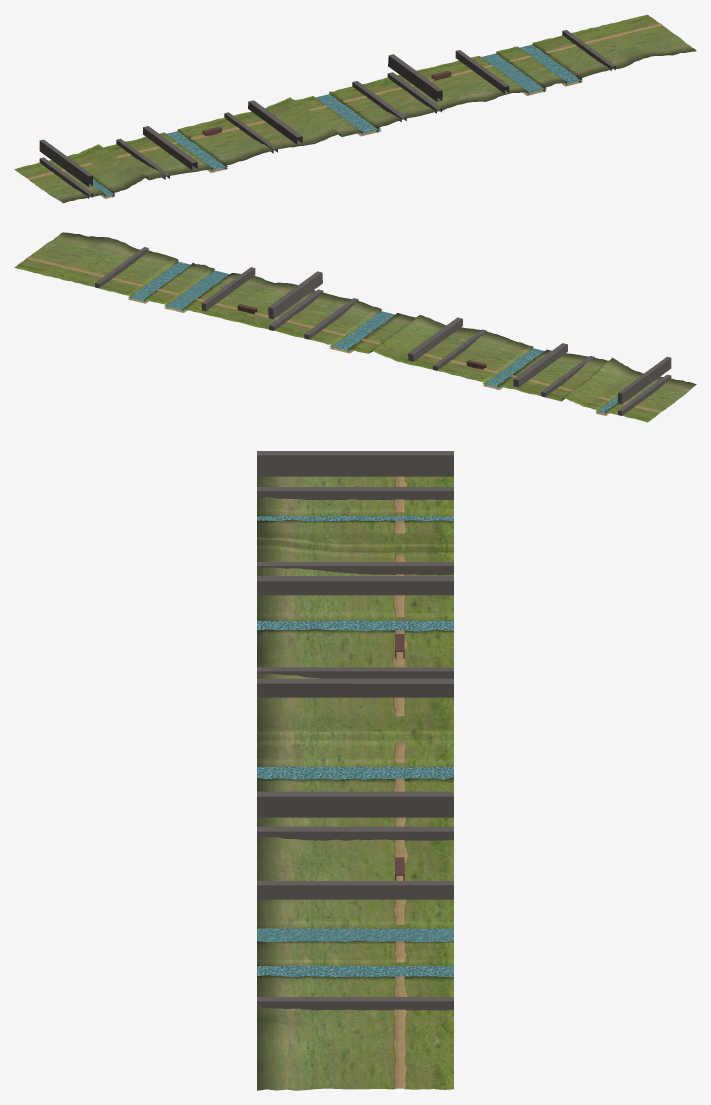
File: LandscapeLevel04.fbx
3 views of the same model, one above another, from view 1: azimuth 30°, elevation 25°; view 2: azimuth 150°, elevation 25°; view 3: azimuth 270°, elevation 25° (orthographic). The views are drawn at different scales.
Visible parts, largest first — view 1: Plane_002, Plane_001, Plane_003, Plane_000; view 2: Plane_002, Plane_001, Plane_003, Plane_000; view 3: Plane_002, Plane_001, Plane_003, Plane_000.
Boxes of the visible parts, bbox=[...] form: Plane_002: bbox=[14, 14, 696, 203]; Plane_001: bbox=[39, 30, 615, 198]; Plane_003: bbox=[93, 44, 582, 196]; Plane_000: bbox=[27, 23, 662, 198]; Plane_002: bbox=[14, 232, 696, 422]; Plane_001: bbox=[95, 247, 671, 415]; Plane_003: bbox=[128, 261, 617, 413]; Plane_000: bbox=[26, 256, 661, 415]; Plane_002: bbox=[257, 476, 453, 1090]; Plane_001: bbox=[257, 451, 453, 1010]; Plane_003: bbox=[257, 515, 453, 976]; Plane_000: bbox=[392, 476, 407, 1088].
Bounding box in the file's own units: 29705 × 1219 × 4002.
